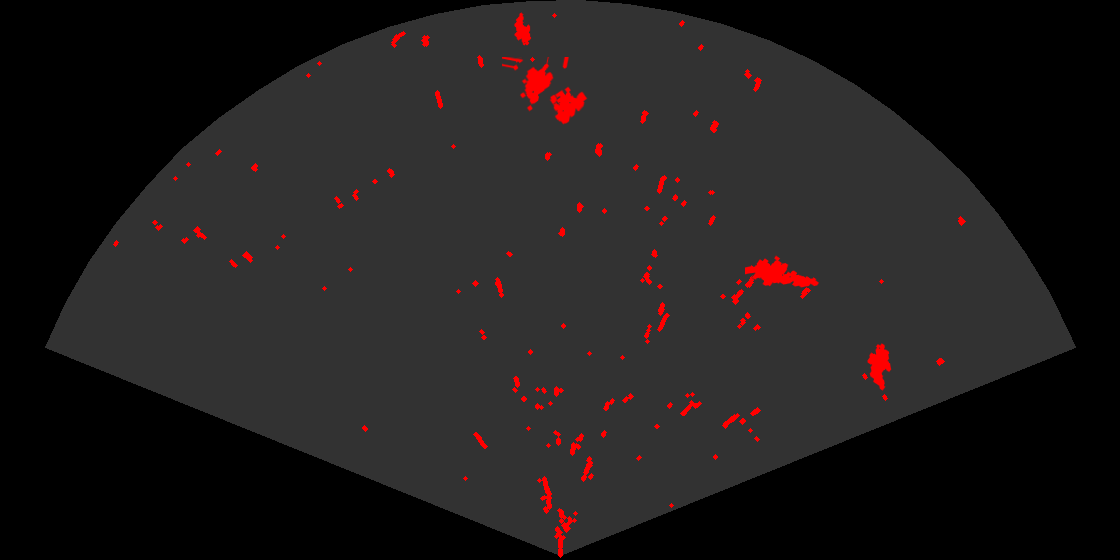AUV: (866, 342, 893, 392), (513, 11, 533, 47)
cage: (502, 57, 589, 126)
frogman: (745, 254, 820, 289)
